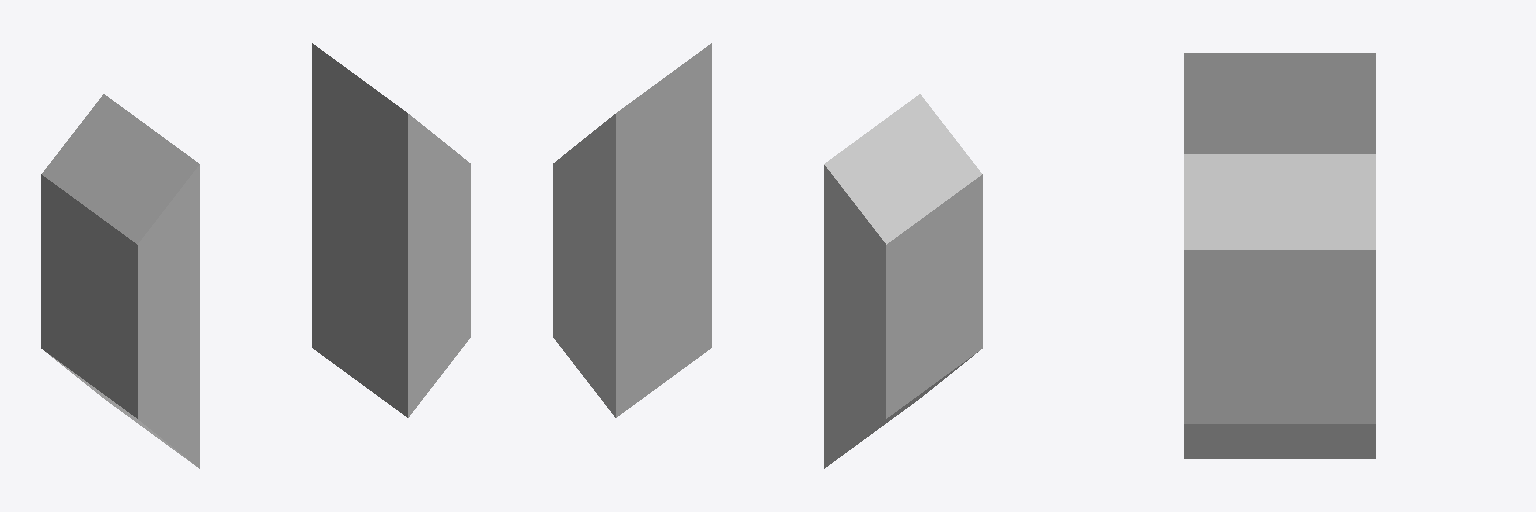
File: base_core_door.obj
3 views of the same model, side by side, from view 1: azimuth 30°, elevation 25°; view 2: azimuth 150°, elevation 25°; view 3: azimuth 270°, elevation 25° (orthographic).
Visible parts, largest first — view 1: Cube; view 2: Cube; view 3: Cube.
Boxes of the visible parts, x1,y1,x2,y2 form: Cube: [41, 43, 470, 468]; Cube: [553, 43, 982, 468]; Cube: [1184, 53, 1375, 458].
Bounding box in the file's own units: 16 × 14 × 8.